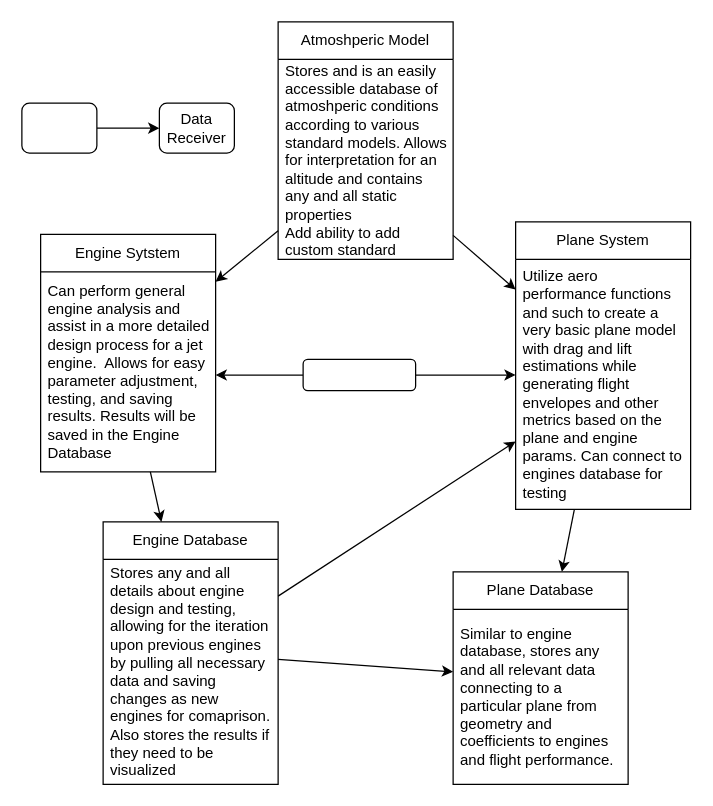
This 713x806 diagram has some shape labels left out. The centre of each missing label's shape, as x and y in pixels:
Analysis Tools: the point at 359,374
Data Provider: the point at 59,127
